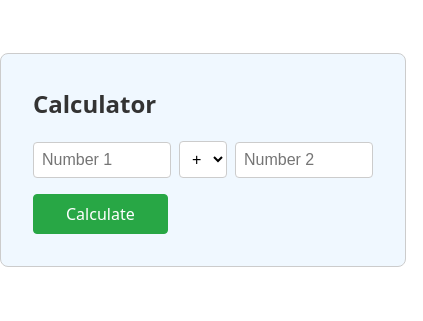
Test case: Calculator › shows error for invalid input
Click the button "Calculate" at (100, 214), box x1=33 y1=194 x2=168 y2=234
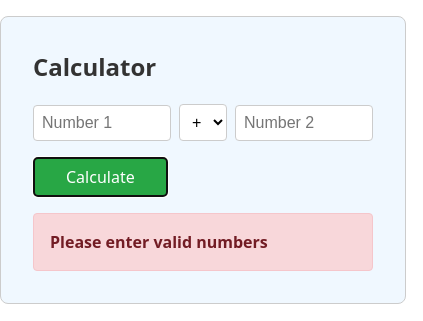
Check: the text with test id "error" reads "Please enter valid numbers", box x1=50 y1=232 x2=268 y2=254
